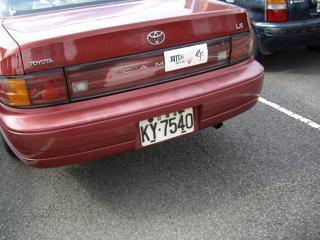plate: (135, 110, 196, 145)
